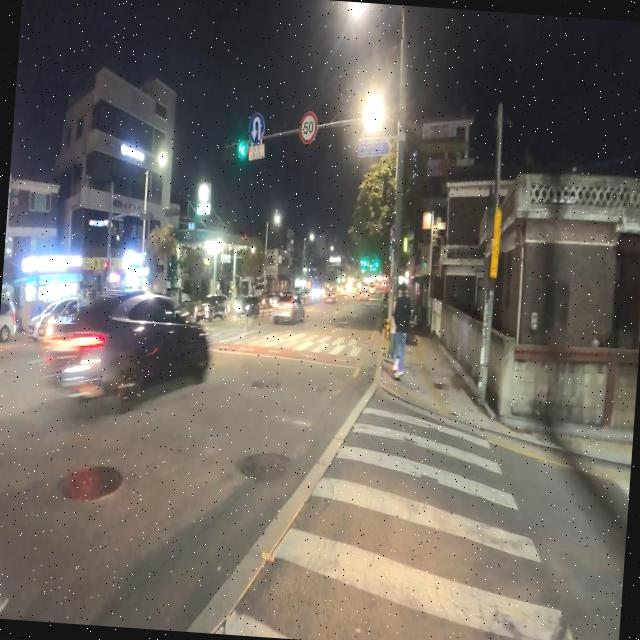crosswalk: (214, 388, 572, 640), (201, 324, 370, 356)
